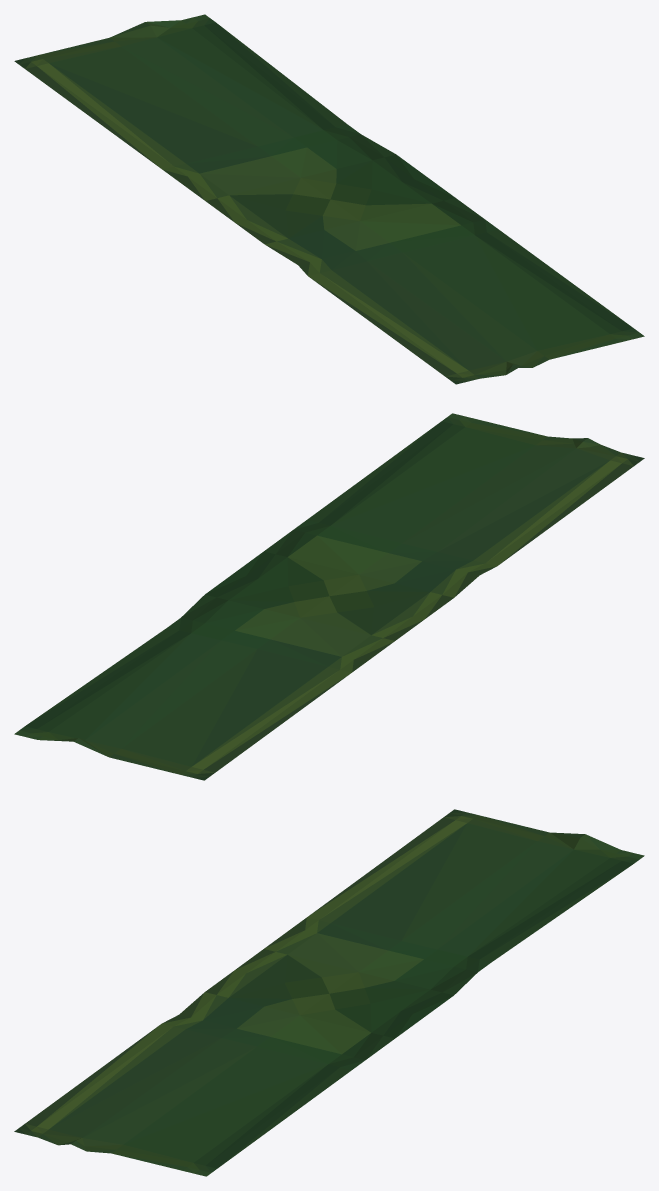
File: prop_decor_rug_runner_3.fbx
The picture shows the model from 3 angles, top to bottom: view 1: azimuth 30°, elevation 25°; view 2: azimuth 150°, elevation 25°; view 3: azimuth 330°, elevation 25°; orthographic projection.
Visible parts, largest first — view 1: prop_decor_rug_runner_3; view 2: prop_decor_rug_runner_3; view 3: prop_decor_rug_runner_3.
Part boxes in pixels (x1,y1,x2,y2): prop_decor_rug_runner_3: (14,14,644,384); prop_decor_rug_runner_3: (14,413,644,780); prop_decor_rug_runner_3: (14,809,644,1176).
Bounding box in the file's own units: 1.5 × 0.0531 × 6.05.
